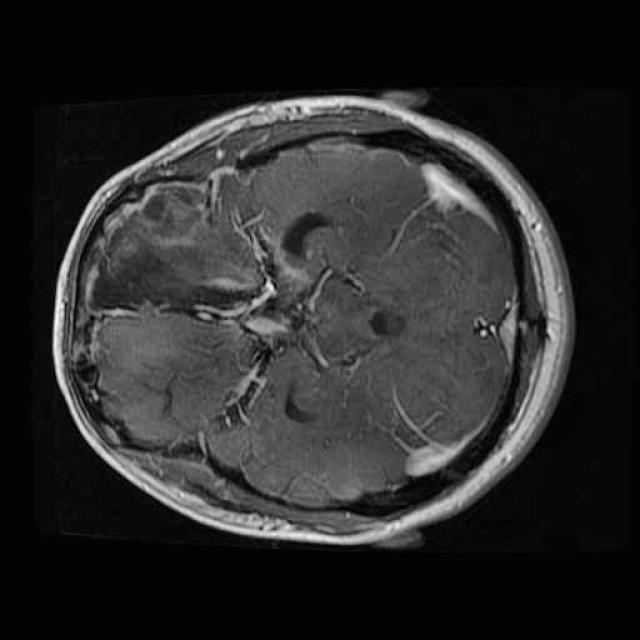Non-Tumor: (76, 164, 281, 339)
